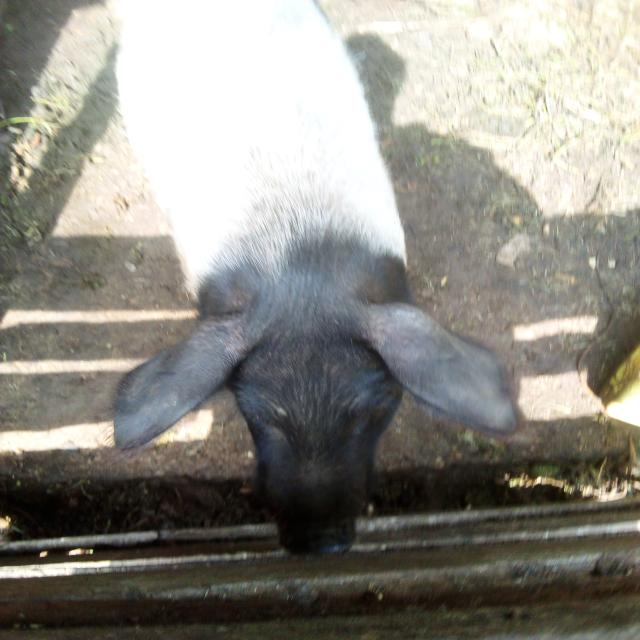pig: (45, 0, 576, 572)
